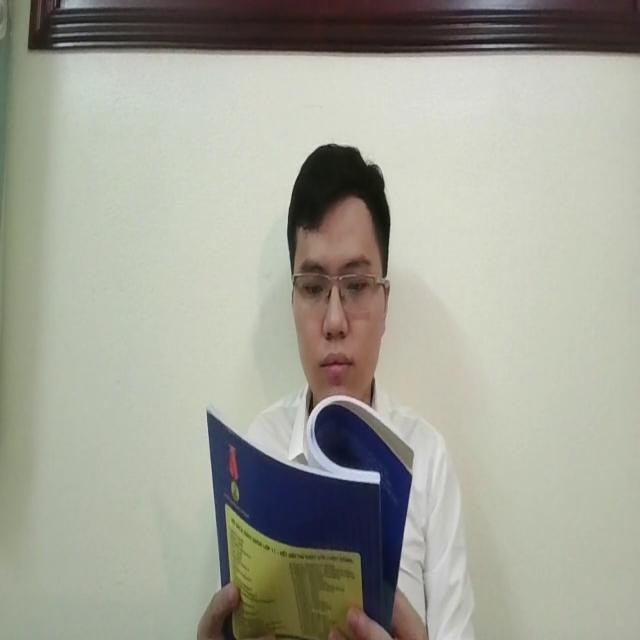book: (201, 389, 410, 640)
student: (244, 141, 482, 640)
